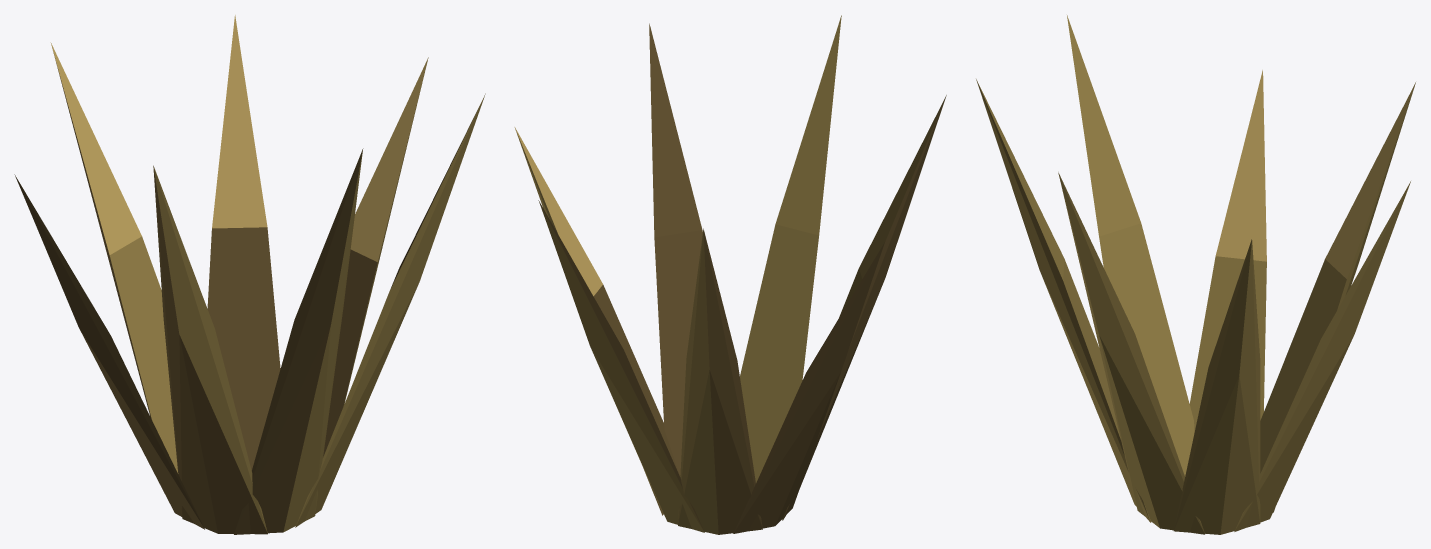
Rendered from TW_VEG_GRASS_TUFT_B_LOD0.glb.
The picture shows the model from 3 angles, left to right: view 1: azimuth 30°, elevation 25°; view 2: azimuth 150°, elevation 25°; view 3: azimuth 270°, elevation 25°; orthographic projection. The views are drawn at different scales.
Visible parts, largest first — view 1: TW_VEG_GRASS_TUFT_B_LOD0; view 2: TW_VEG_GRASS_TUFT_B_LOD0; view 3: TW_VEG_GRASS_TUFT_B_LOD0.
Boxes of the visible parts, left/top/right/bottom form: TW_VEG_GRASS_TUFT_B_LOD0: left=14, top=15, right=485, bottom=534; TW_VEG_GRASS_TUFT_B_LOD0: left=514, top=15, right=946, bottom=534; TW_VEG_GRASS_TUFT_B_LOD0: left=976, top=15, right=1415, bottom=534.
Bounding box in the file's own units: 0.4581 × 0.4781 × 0.4491.
Materials: 1 (1 with a texture image).
